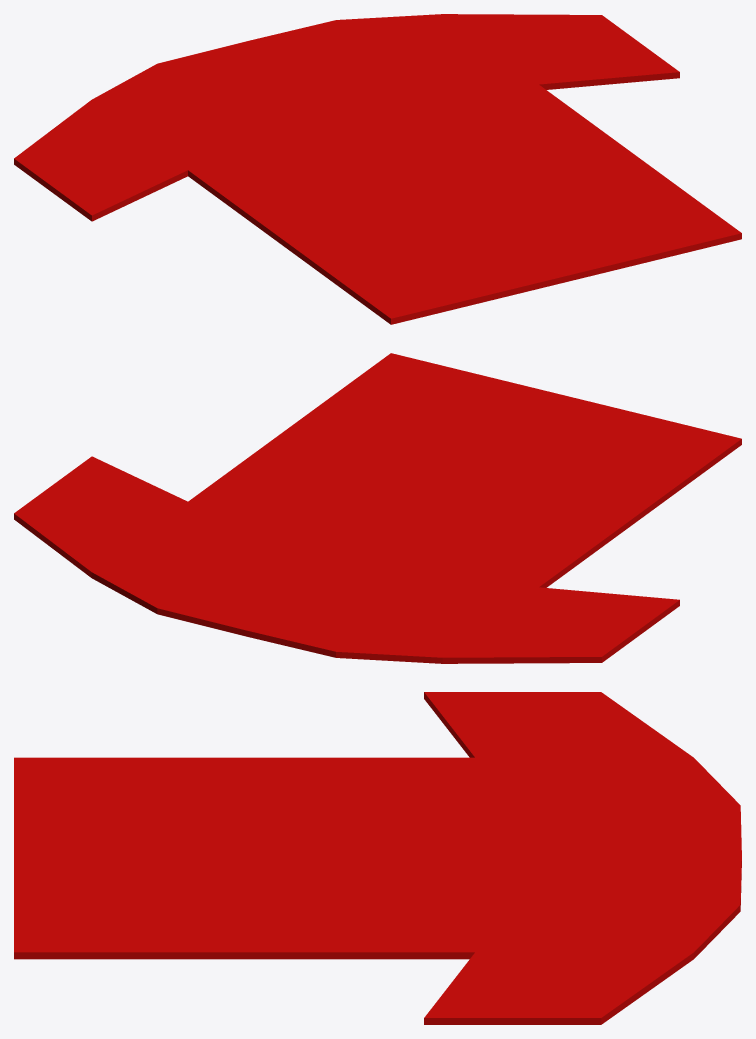
File: tshirt.fbx
The picture shows the model from 3 angles, top to bottom: view 1: azimuth 30°, elevation 25°; view 2: azimuth 150°, elevation 25°; view 3: azimuth 270°, elevation 25°; orthographic projection. The views are drawn at different scales.
Visible parts, largest first — view 1: Tshirt; view 2: Tshirt; view 3: Tshirt.
Part boxes in pixels (x1=…): Tshirt: x1=14, y1=14, x2=741, y2=324; Tshirt: x1=14, y1=353, x2=741, y2=663; Tshirt: x1=14, y1=692, x2=741, y2=1024.
Bounding box in the file's own units: 4.26 × 0.0423 × 4.02.
